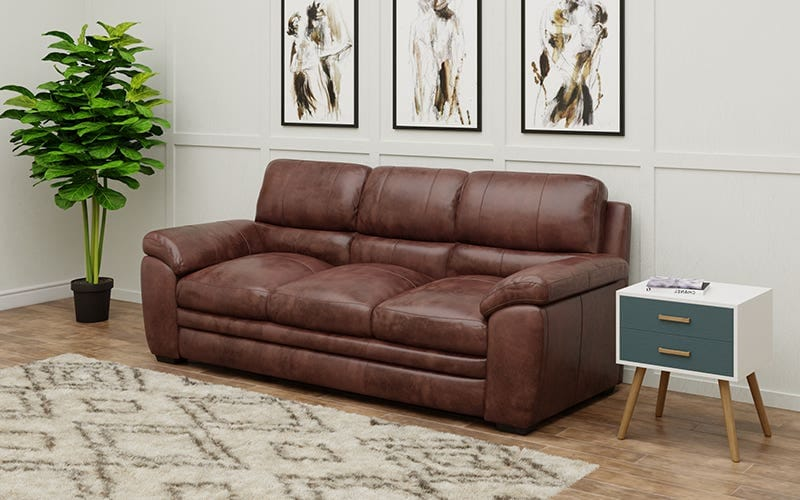3seatersofa: (141, 159, 630, 432)
backrest: (258, 160, 629, 277)
base: (176, 306, 487, 415)
leftarmrest: (480, 256, 627, 314)
leg: (484, 285, 621, 433), (142, 256, 177, 357)
rightarmrest: (144, 220, 262, 275)
seat: (177, 252, 496, 353)
